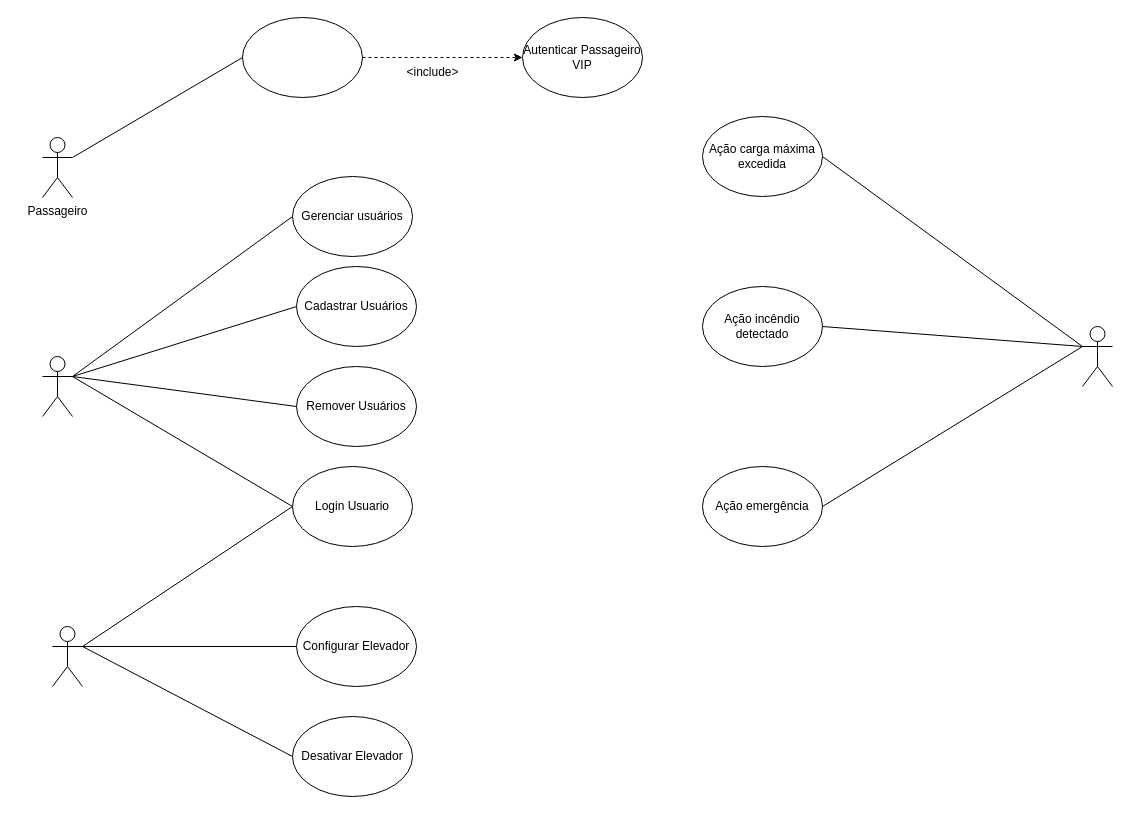
The diagram is 1140 pixels wide and 814 high, and some of its shapes have lost their labels. Here are the shapes that lost their labels. From the top down, the centre of each, then its label:
the point at 302,57: Chamar Elevador
the point at 1097,356: Sensores
the point at 57,386: Usuario Mestre
the point at 67,656: Usuario Controle
